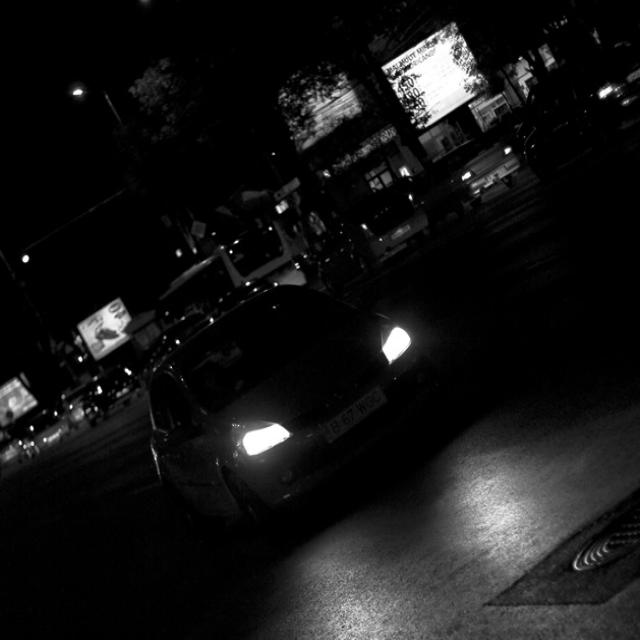Car: (110, 299, 498, 575)
